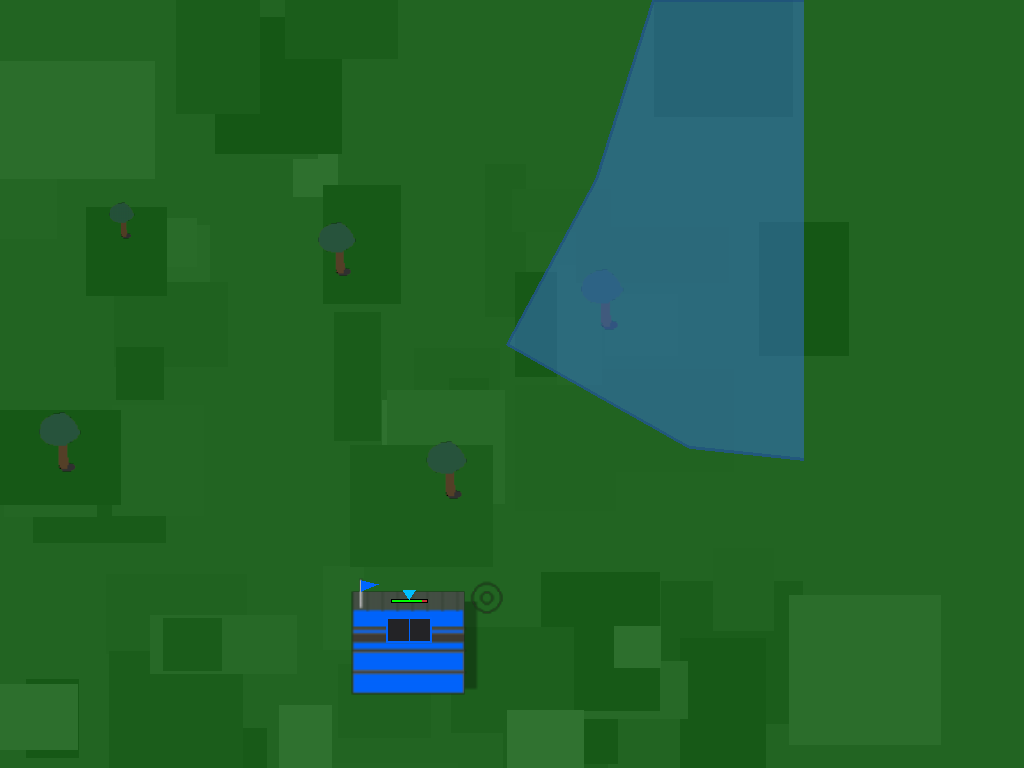Barracks: (341, 530, 476, 665)
Lake: (507, 0, 804, 467)
